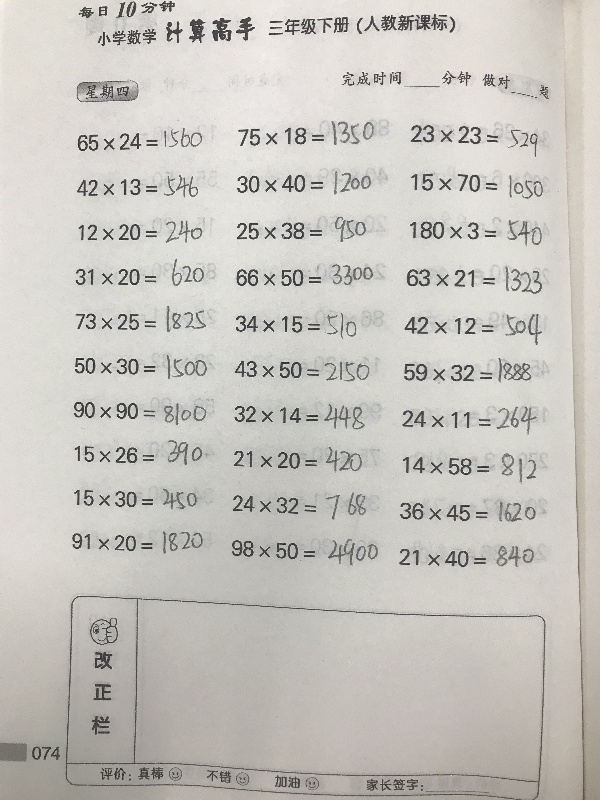equation: (401, 310, 546, 349), (228, 535, 382, 569), (399, 403, 541, 438), (399, 446, 540, 481), (403, 260, 546, 293), (73, 303, 210, 336), (234, 213, 370, 246), (71, 435, 211, 467), (407, 120, 542, 153), (407, 217, 546, 249), (234, 118, 377, 149), (231, 398, 369, 430), (71, 352, 211, 383), (407, 167, 547, 198), (231, 444, 366, 476), (401, 354, 536, 386), (234, 168, 375, 198), (72, 258, 207, 289), (233, 261, 377, 290), (69, 528, 207, 558), (396, 542, 538, 571), (69, 398, 210, 427), (232, 310, 361, 341), (397, 499, 540, 526), (231, 357, 373, 384), (229, 489, 365, 517), (75, 218, 206, 247), (74, 172, 203, 201), (70, 483, 200, 511), (73, 126, 206, 153)
